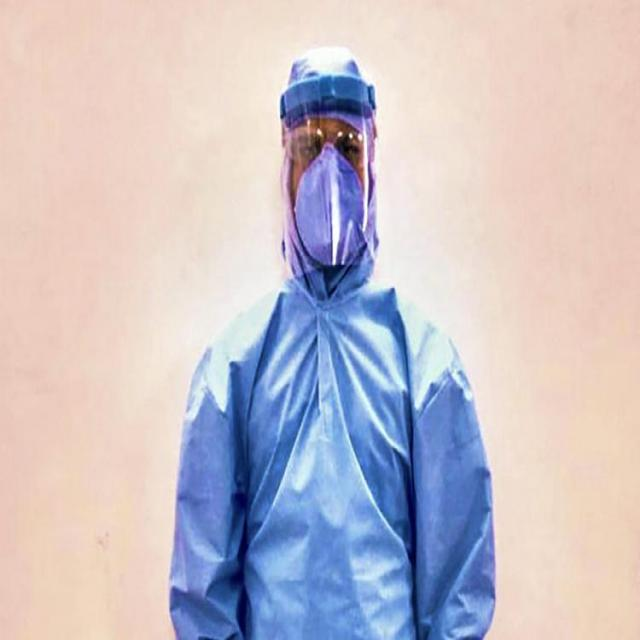Face_Shield: (279, 72, 382, 270)
Goggles: (283, 121, 377, 176)
